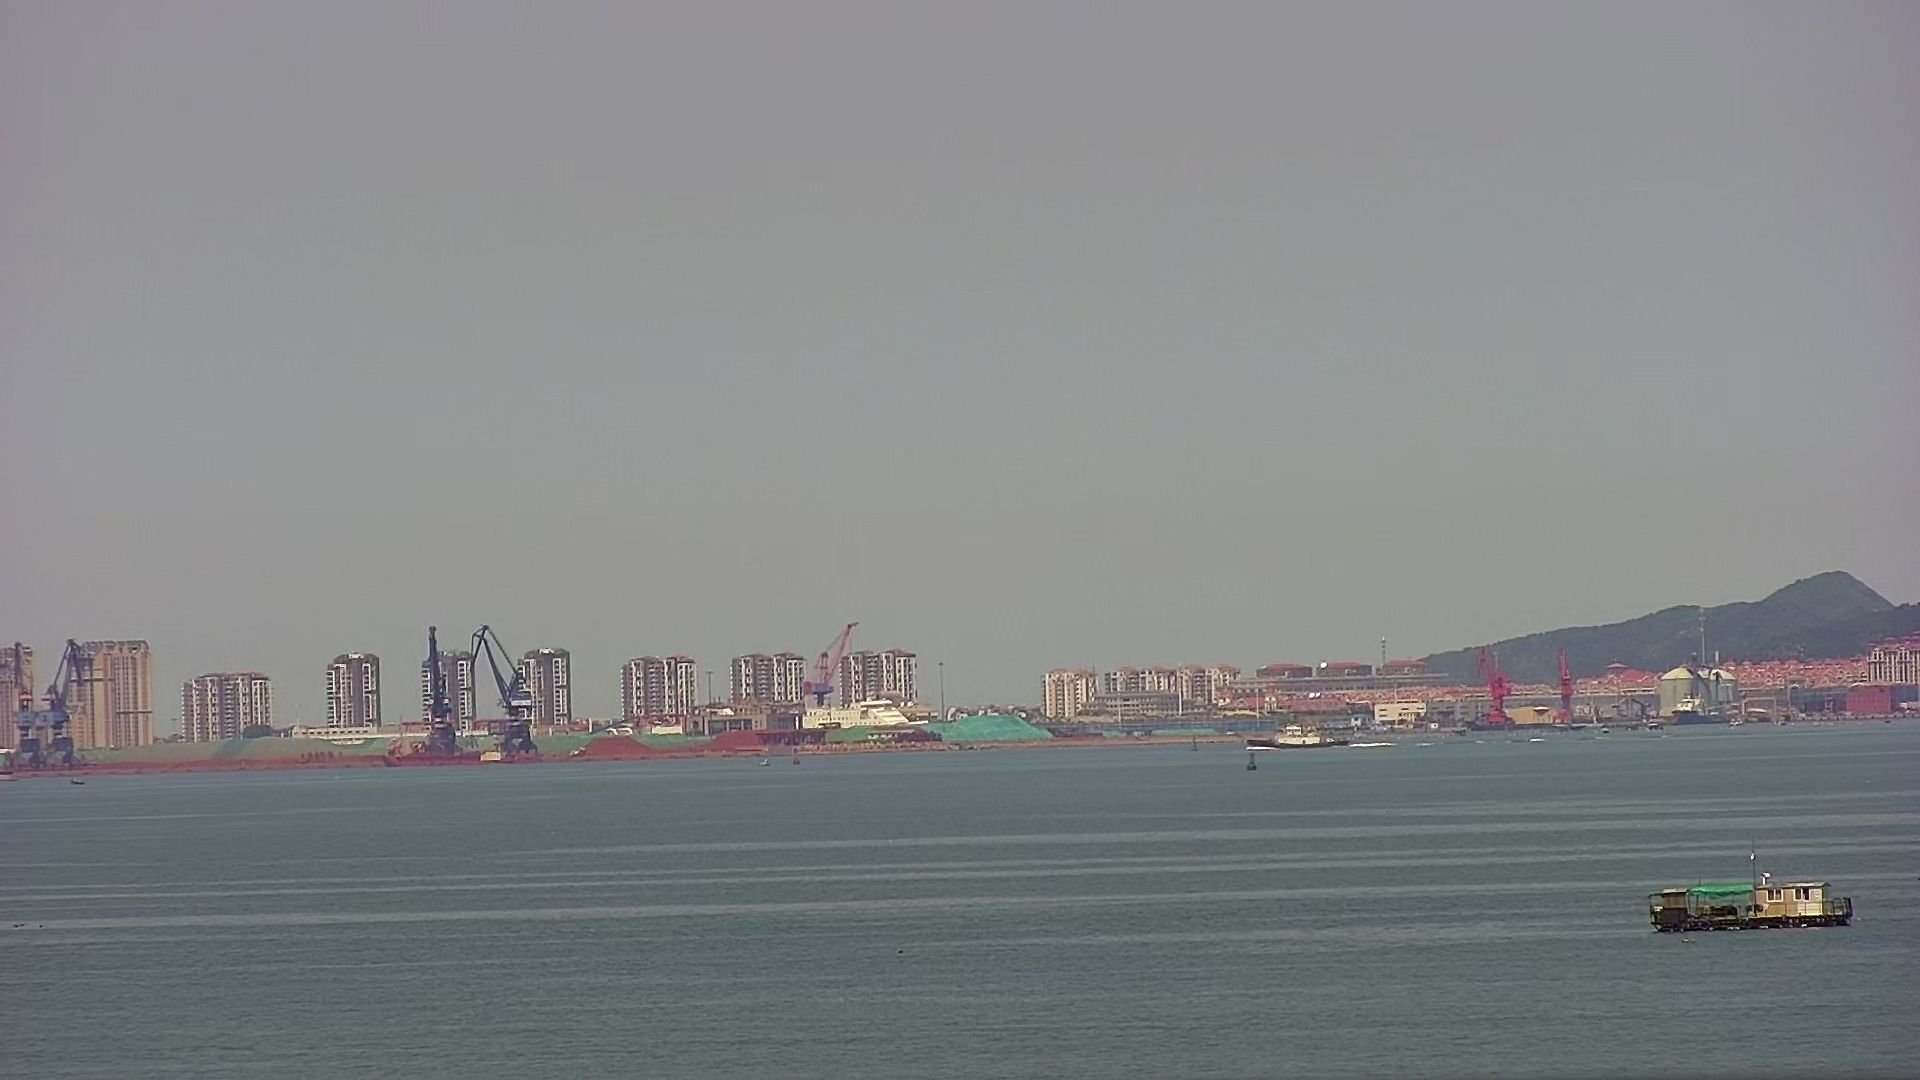platform: (1648, 837, 1855, 938)
